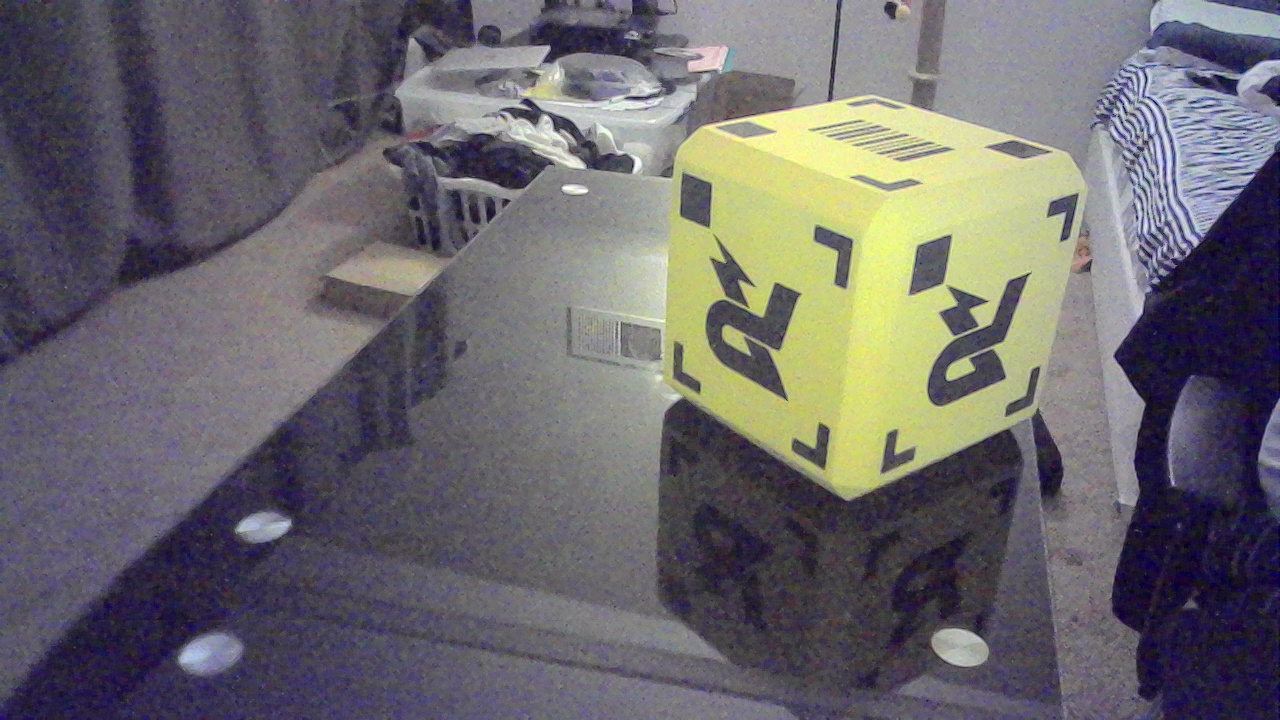Barcode: (819, 111, 960, 171)
R: (707, 257, 815, 402), (934, 289, 1037, 406)
